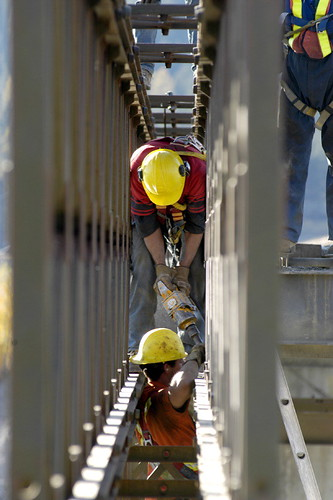person hardhat: (129, 137, 228, 333), (126, 325, 211, 484)
